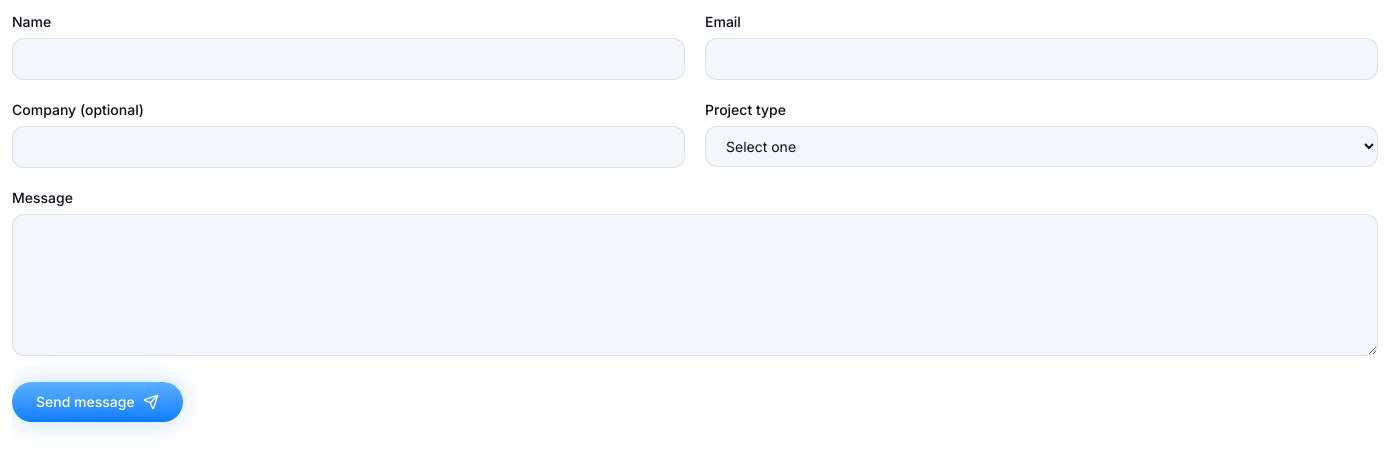
Test: ContactForm › submits valid data to the API and shows the success message
The width and height of the screenshot is (1390, 450).
Type "Ada Lovelace" into the field labelled "Name" at (348, 59), box [12,38,685,80]
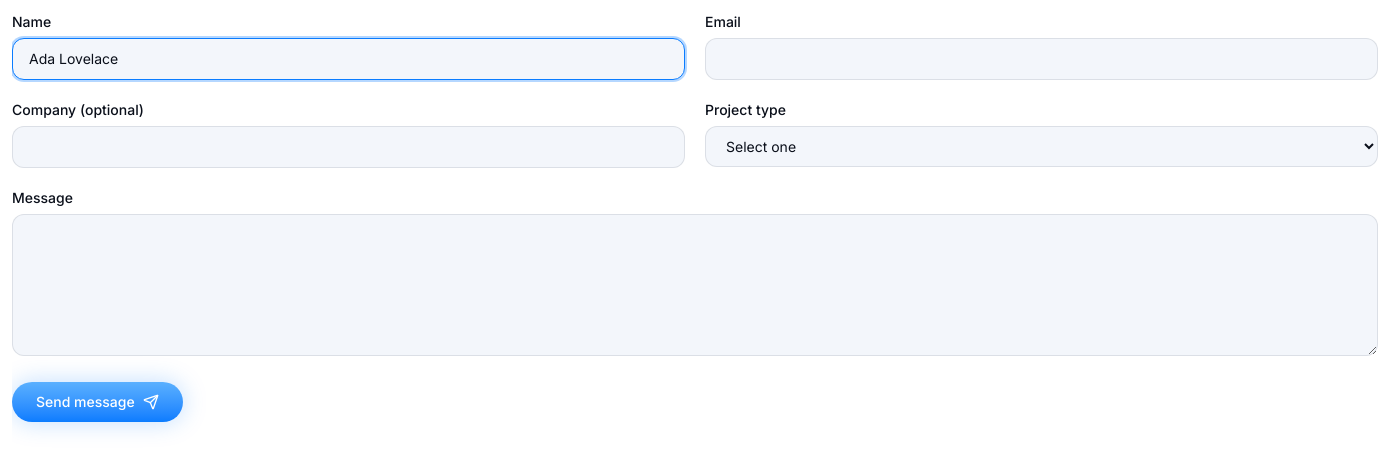
Type "ada@example.com" into the field labelled "Email" at (1042, 59), box [705,38,1378,80]
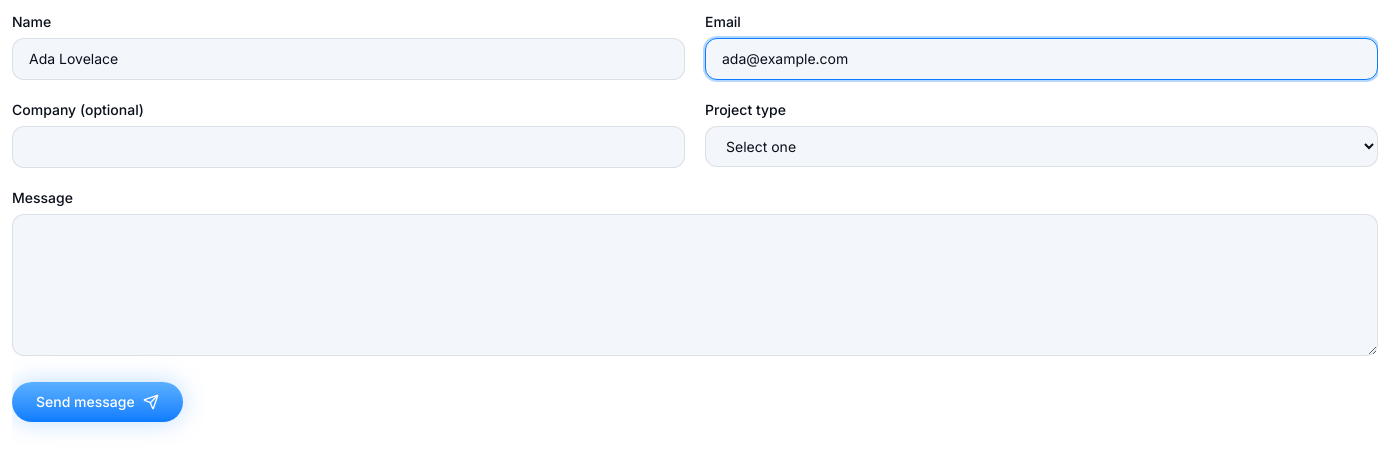
Select "Web app" in the dropdown labelled "Project type" at (1042, 146), box [705,126,1378,167]
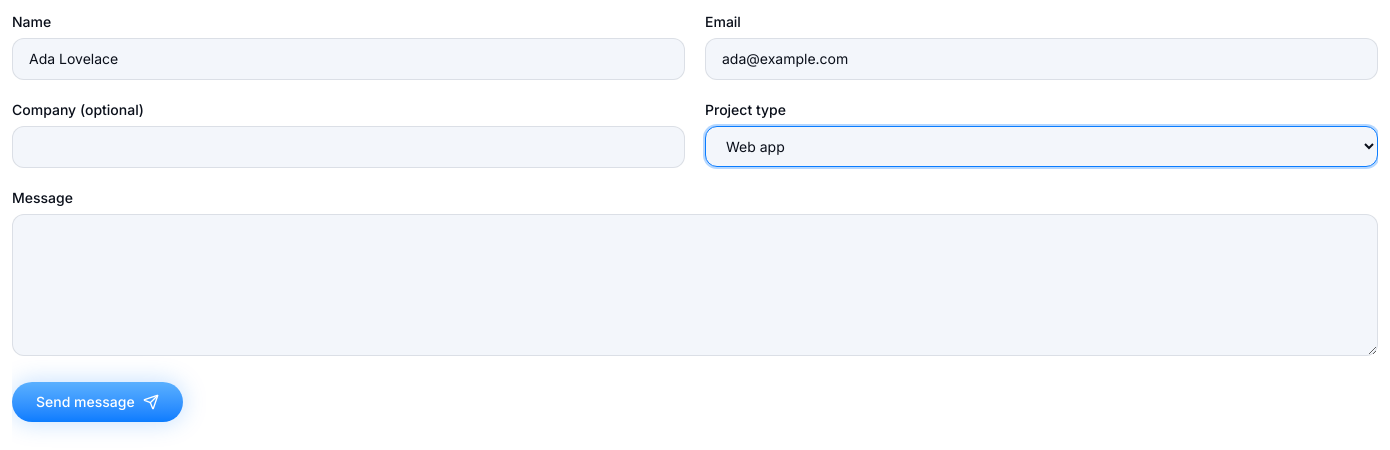
Type "We need a customer portal built." into the text box labelled "Message" at (695, 285), box [12,214,1378,356]
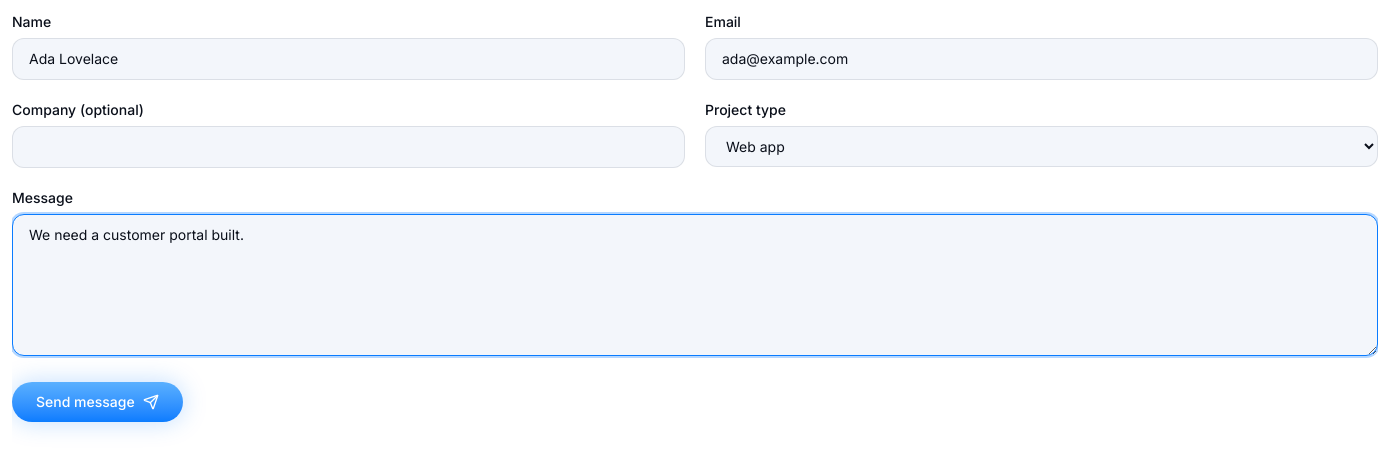
Click the button "Send message" at (97, 402), box [12,382,183,422]
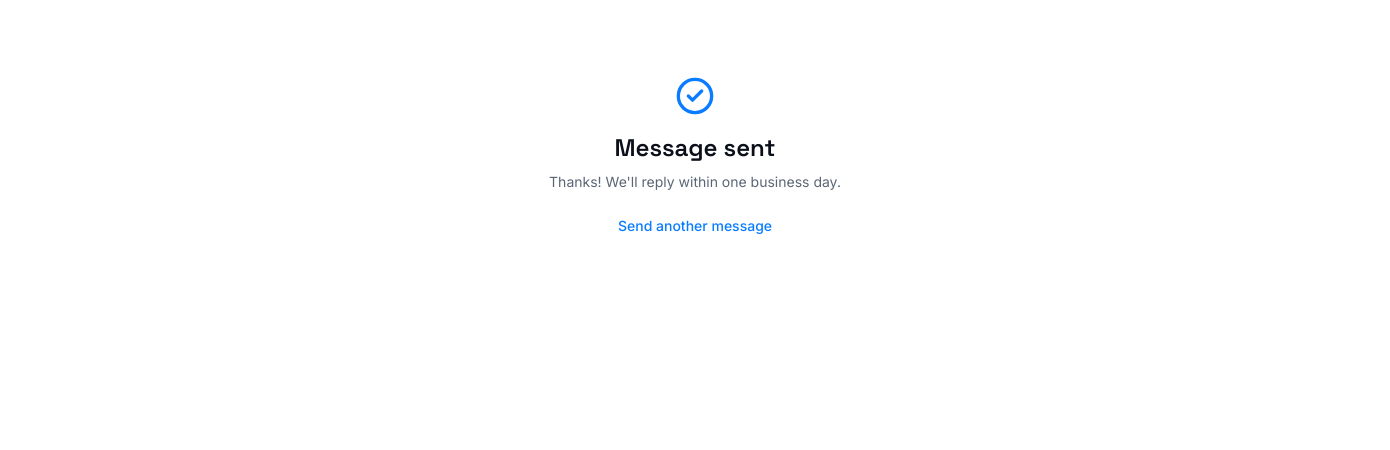
Expected: the message shows "Message sent", [614,132,776,163]
